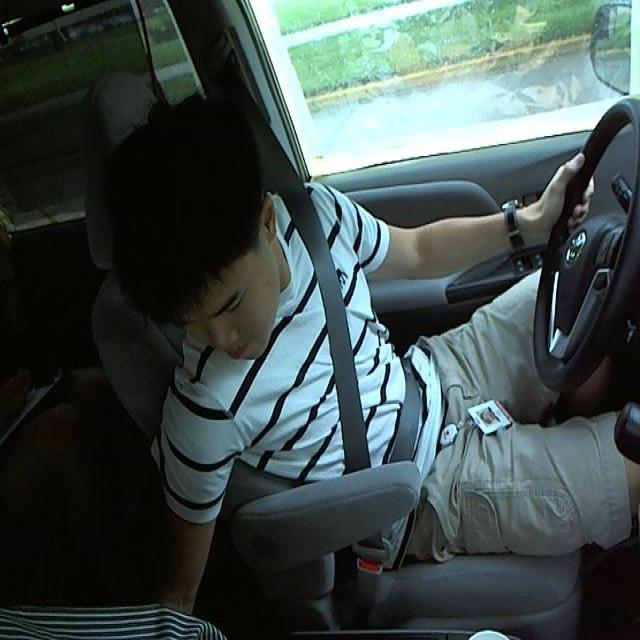seatbelt: (288, 216, 433, 468)
